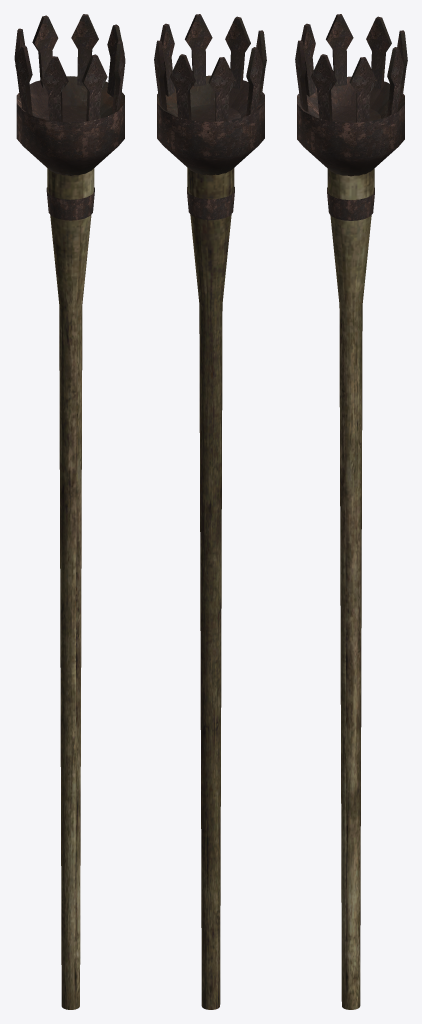
File: Ground_torch.FBX
3 renders of one model, left to right at view 1: azimuth 30°, elevation 25°; view 2: azimuth 150°, elevation 25°; view 3: azimuth 330°, elevation 25°, orthographic.
Visible parts, largest first — view 1: Ground_Torch_01; view 2: Ground_Torch_01; view 3: Ground_Torch_01.
Boxes of the visible parts, x1,y1,x2,y2 form: Ground_Torch_01: [14, 14, 125, 1009]; Ground_Torch_01: [154, 14, 266, 1009]; Ground_Torch_01: [295, 14, 407, 1009].
Size of the model in its own units: 2.79 by 27.16 by 2.79.
